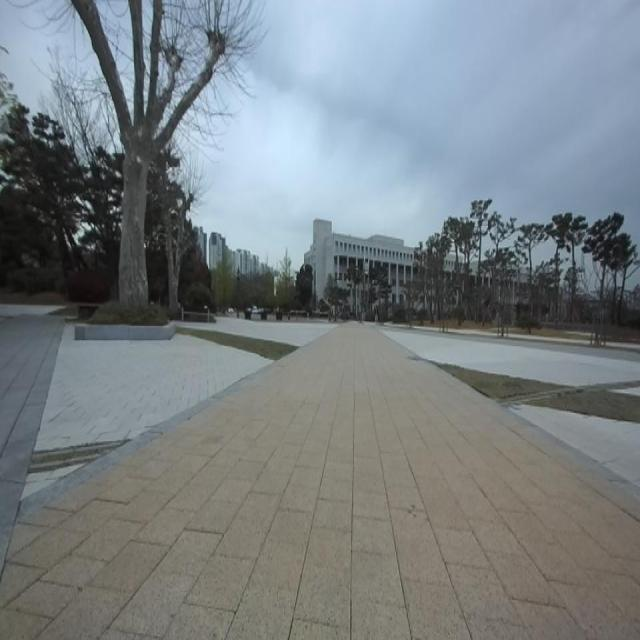sidewalk: (0, 324, 640, 639)
